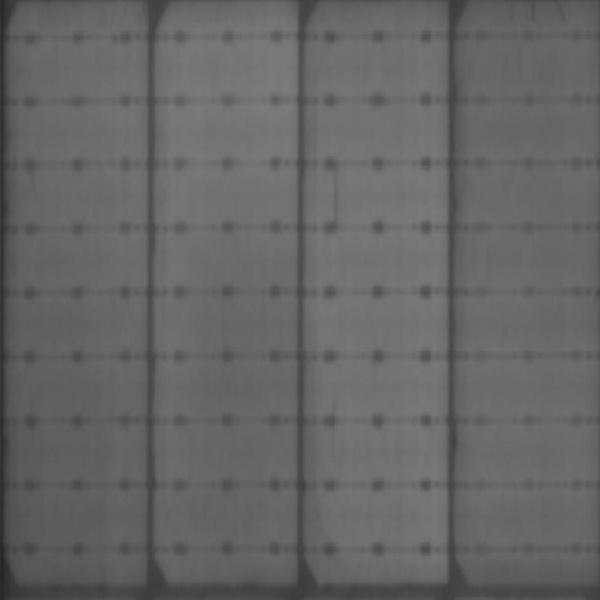scratch: (496, 1, 580, 28), (327, 165, 346, 229)
